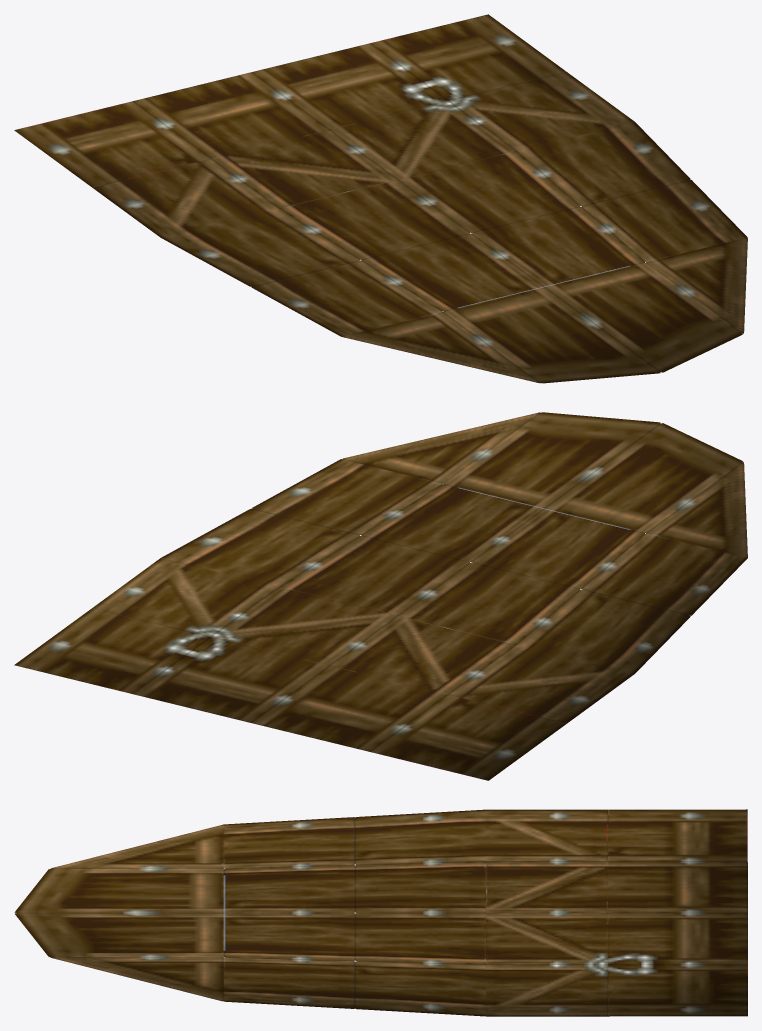
3 renders of one model, top to bottom at view 1: azimuth 30°, elevation 25°; view 2: azimuth 150°, elevation 25°; view 3: azimuth 270°, elevation 25°, orthographic. The views are drawn at different scales.
Visible parts, largest first — view 1: T1L1M001_2; view 2: T1L1M001_2; view 3: T1L1M001_2.
Part boxes in pixels (x1,y1,x2,y2): T1L1M001_2: [14, 14, 747, 383]; T1L1M001_2: [14, 412, 747, 780]; T1L1M001_2: [14, 809, 747, 1016].
Bounding box in the file's own units: 2.8 × 0.000977 × 4.2.
Materials: 1 (1 with a texture image).
